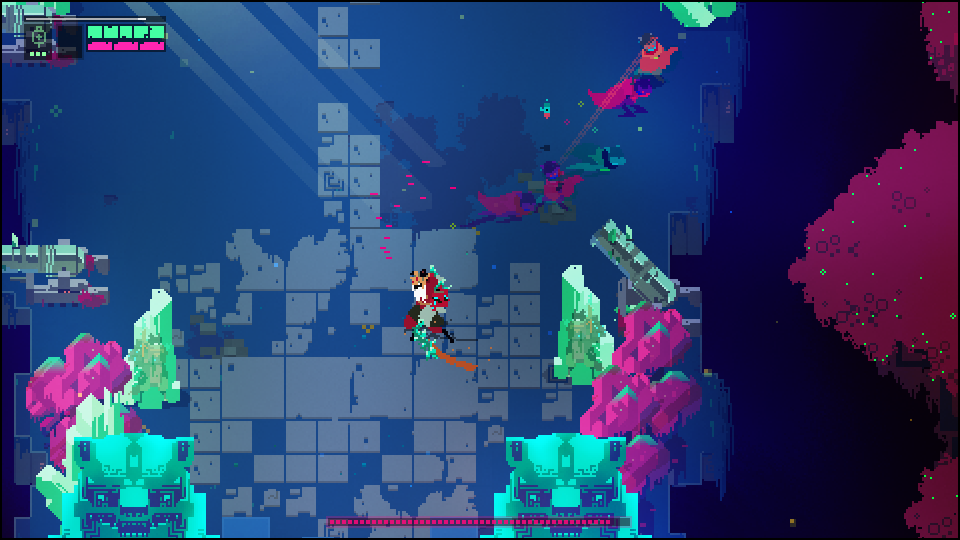hanged_man: (398, 264, 457, 364)
player: (626, 30, 678, 88)
